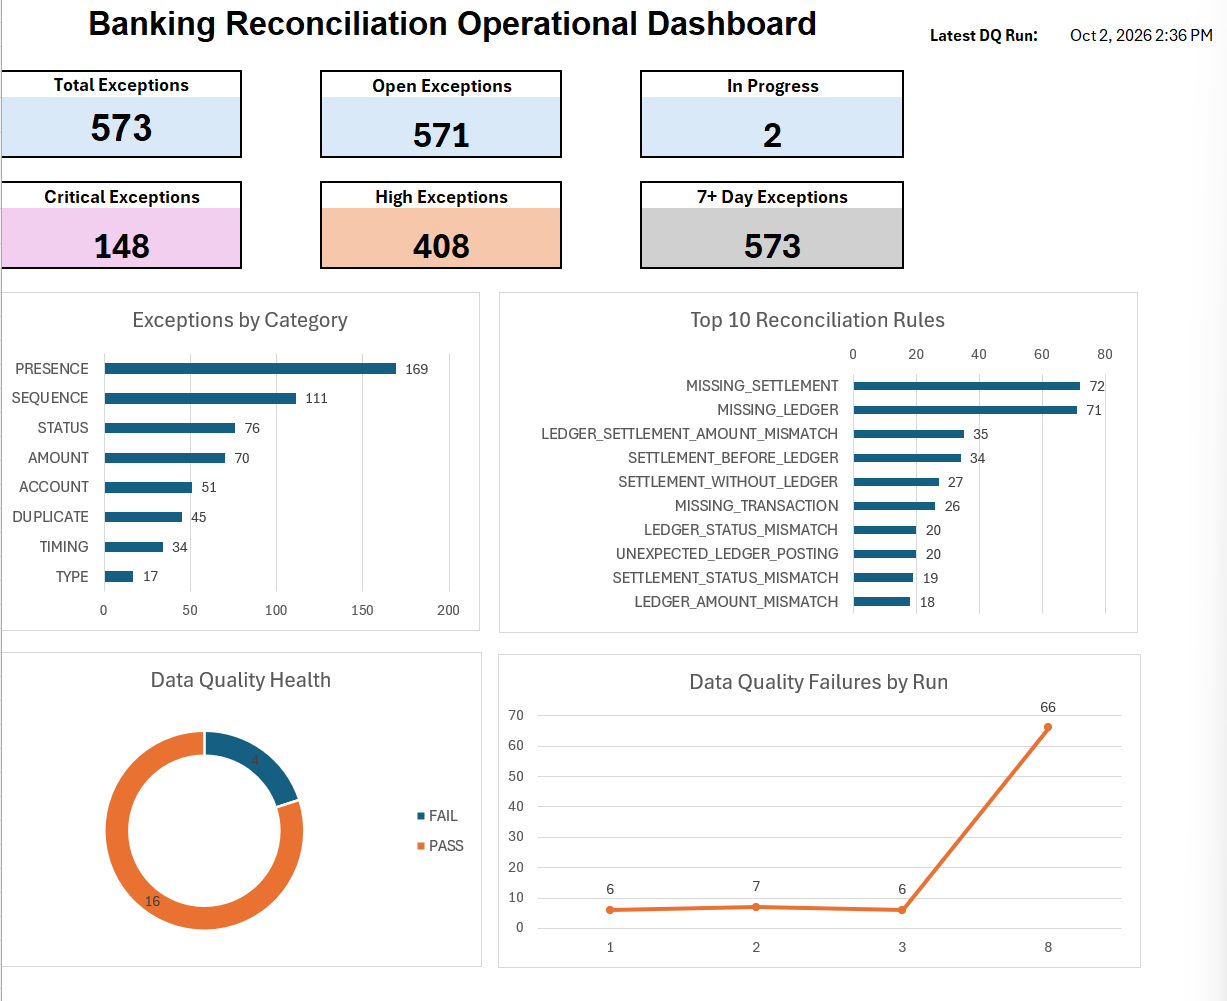

The page's visual inventory and layout, read from the dashboard file:
{"tool":"powerbi","page":{"name":"Overview","canvas":[1920,1080],"ordinal":0},"visuals":[{"type":"cardVisual","fields":{"Data":["Exception KPIs.Total Exceptions"]},"box":[19.9,65.1,198,150.2],"z":0},{"type":"cardVisual","fields":{"Data":["Exception KPIs.Open Exceptions"]},"box":[263.1,65.1,198,150.2],"z":1000},{"type":"cardVisual","fields":{"Data":["Exception KPIs.In Progress Exceptions"]},"box":[507.6,65.1,214,150.2],"z":2000},{"type":"cardVisual","fields":{"Data":["Exception KPIs.Critical Exceptions"]},"box":[21.3,241.9,196.7,150.2],"z":3000},{"type":"cardVisual","fields":{"Data":["Exception KPIs.High Exceptions"]},"box":[263.1,241.9,198,150.2],"z":4000},{"type":"cardVisual","fields":{"Data":["Exception Aging.7+ Day Exceptions"]},"box":[507.6,241.9,214,150.2],"z":5000},{"type":"clusteredBarChart","title":"Exceptions by Category","fields":{"Category":["Exception Categories.category"],"Y":["Sum(Exception Categories.exception_count)"]},"box":[21.3,412,610,333.6],"z":6000},{"type":"clusteredBarChart","title":"Top 10 Reconciliation Rules","fields":{"Category":["Exception Rules.rule_name"],"Y":["Sum(Exception Rules.exception_count)"]},"box":[677.7,412,635.2,333.6],"z":7000},{"type":"donutChart","title":"Data Quality Health","fields":{"Category":["DQ Current.result_status"],"Y":["CountNonNull(DQ Current.check_code)"]},"box":[19.9,764.1,611.3,316.3],"z":8000},{"type":"lineChart","title":"Data Quality Failures by Run","fields":{"Category":["DQ Run Trend.run_id"],"Y":["Sum(DQ Run Trend.total_failures)"]},"box":[677.7,764.1,635.2,316.3],"z":9000},{"type":"textbox","box":[9.3,9.3,712.3,65.1],"z":10000},{"type":"cardVisual","fields":{"Data":["DQ Run Trend.Latest DQ Run Display"]},"box":[781.4,9.3,243.2,55.8],"z":11000}]}

Visuals, with their boxes on the page's 1920x1080 design canvas (x1, y1, x2, y2). These are canvas units, not pixel positions in the 1227x1001 screenshot, which may show the page scaled, cropped or inside an application window:
cardVisual - Exception KPIs.Total Exceptions: pyautogui.locateOnScreen(20, 65, 218, 215)
cardVisual - Exception KPIs.Open Exceptions: pyautogui.locateOnScreen(263, 65, 461, 215)
cardVisual - Exception KPIs.In Progress Exceptions: pyautogui.locateOnScreen(508, 65, 722, 215)
cardVisual - Exception KPIs.Critical Exceptions: pyautogui.locateOnScreen(21, 242, 218, 392)
cardVisual - Exception KPIs.High Exceptions: pyautogui.locateOnScreen(263, 242, 461, 392)
cardVisual - Exception Aging.7+ Day Exceptions: pyautogui.locateOnScreen(508, 242, 722, 392)
"Exceptions by Category" clusteredBarChart: pyautogui.locateOnScreen(21, 412, 631, 746)
"Top 10 Reconciliation Rules" clusteredBarChart: pyautogui.locateOnScreen(678, 412, 1313, 746)
"Data Quality Health" donutChart: pyautogui.locateOnScreen(20, 764, 631, 1080)
"Data Quality Failures by Run" lineChart: pyautogui.locateOnScreen(678, 764, 1313, 1080)
textbox: pyautogui.locateOnScreen(9, 9, 722, 74)
cardVisual - DQ Run Trend.Latest DQ Run Display: pyautogui.locateOnScreen(781, 9, 1025, 65)
